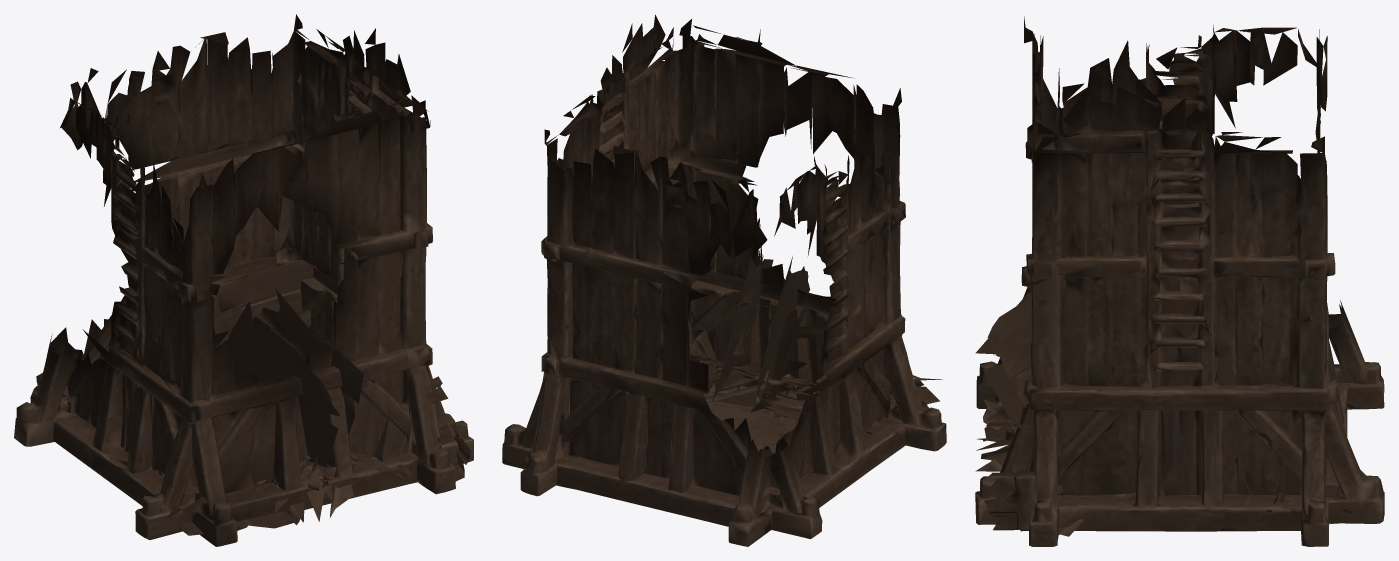
The model's file is tower_large_destroyed.glb.
The picture shows the model from 3 angles, left to right: view 1: azimuth 30°, elevation 25°; view 2: azimuth 150°, elevation 25°; view 3: azimuth 270°, elevation 25°; orthographic projection. The views are drawn at different scales.
Size of the model in its own units: 0.8819 by 1.05 by 0.8781.
1 material, 1 textured.
